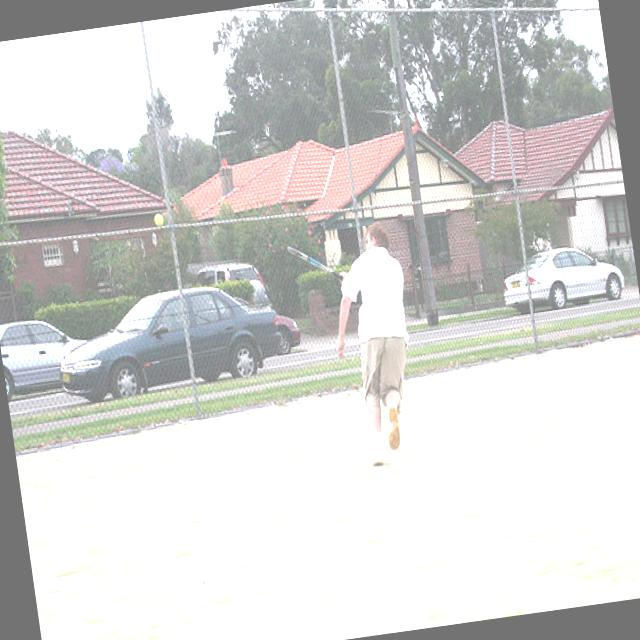Vehicle: (53, 276, 288, 410), (498, 239, 628, 322), (0, 313, 94, 398), (236, 289, 303, 360), (192, 256, 262, 290)
